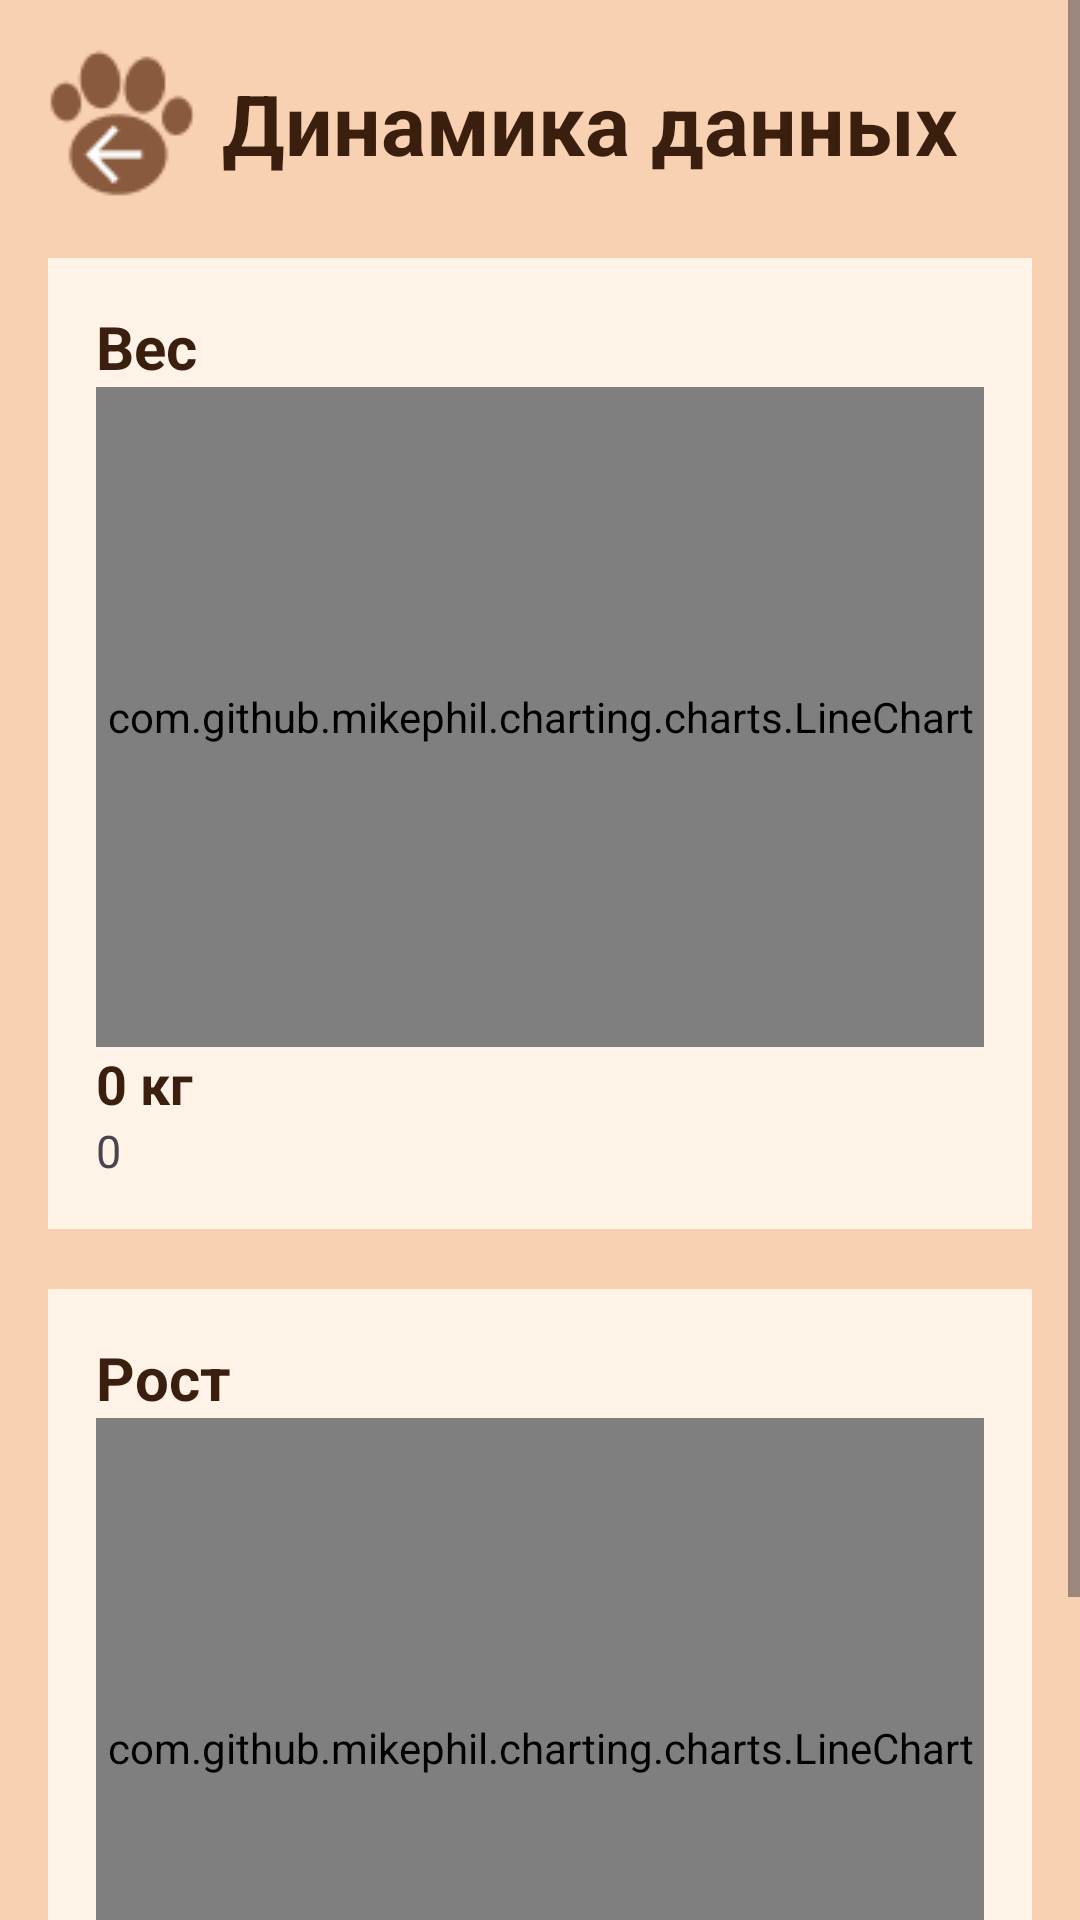

Screen size 1080x1920. Icon name, then its center in pixels as (x=x, y=y):
back: (x=121, y=123)
